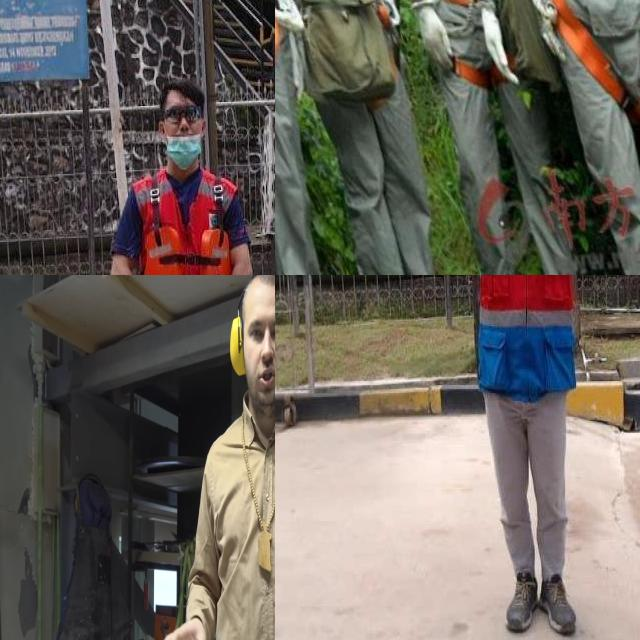Ear-protection: (228, 275, 275, 413)
Harness: (553, 0, 640, 121)
No_Glasses: (243, 306, 275, 357)
boots: (537, 571, 580, 638), (505, 563, 538, 632)
person: (379, 275, 640, 640), (85, 74, 275, 275), (173, 275, 275, 640)
vest: (473, 275, 580, 396), (130, 168, 240, 275)
